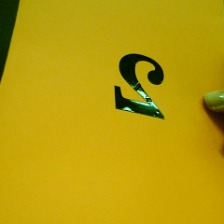orange2: (107, 50, 169, 124)
